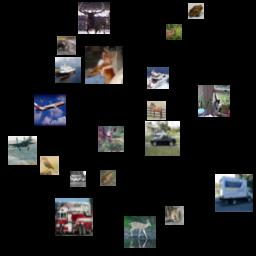airplane: (34, 94, 66, 126), (8, 136, 37, 165)
automobile: (145, 121, 180, 156)
bird: (40, 156, 59, 175)
cat: (198, 85, 230, 117), (57, 36, 76, 55), (165, 206, 184, 225)
deer: (124, 216, 156, 248), (78, 2, 110, 34), (98, 126, 124, 152), (166, 24, 182, 40)
dog: (85, 46, 123, 84)
frog: (188, 3, 204, 19), (100, 170, 116, 186)
ship: (55, 57, 81, 83), (147, 67, 169, 89)
truck: (55, 198, 93, 236), (215, 174, 253, 212), (70, 171, 86, 187)
